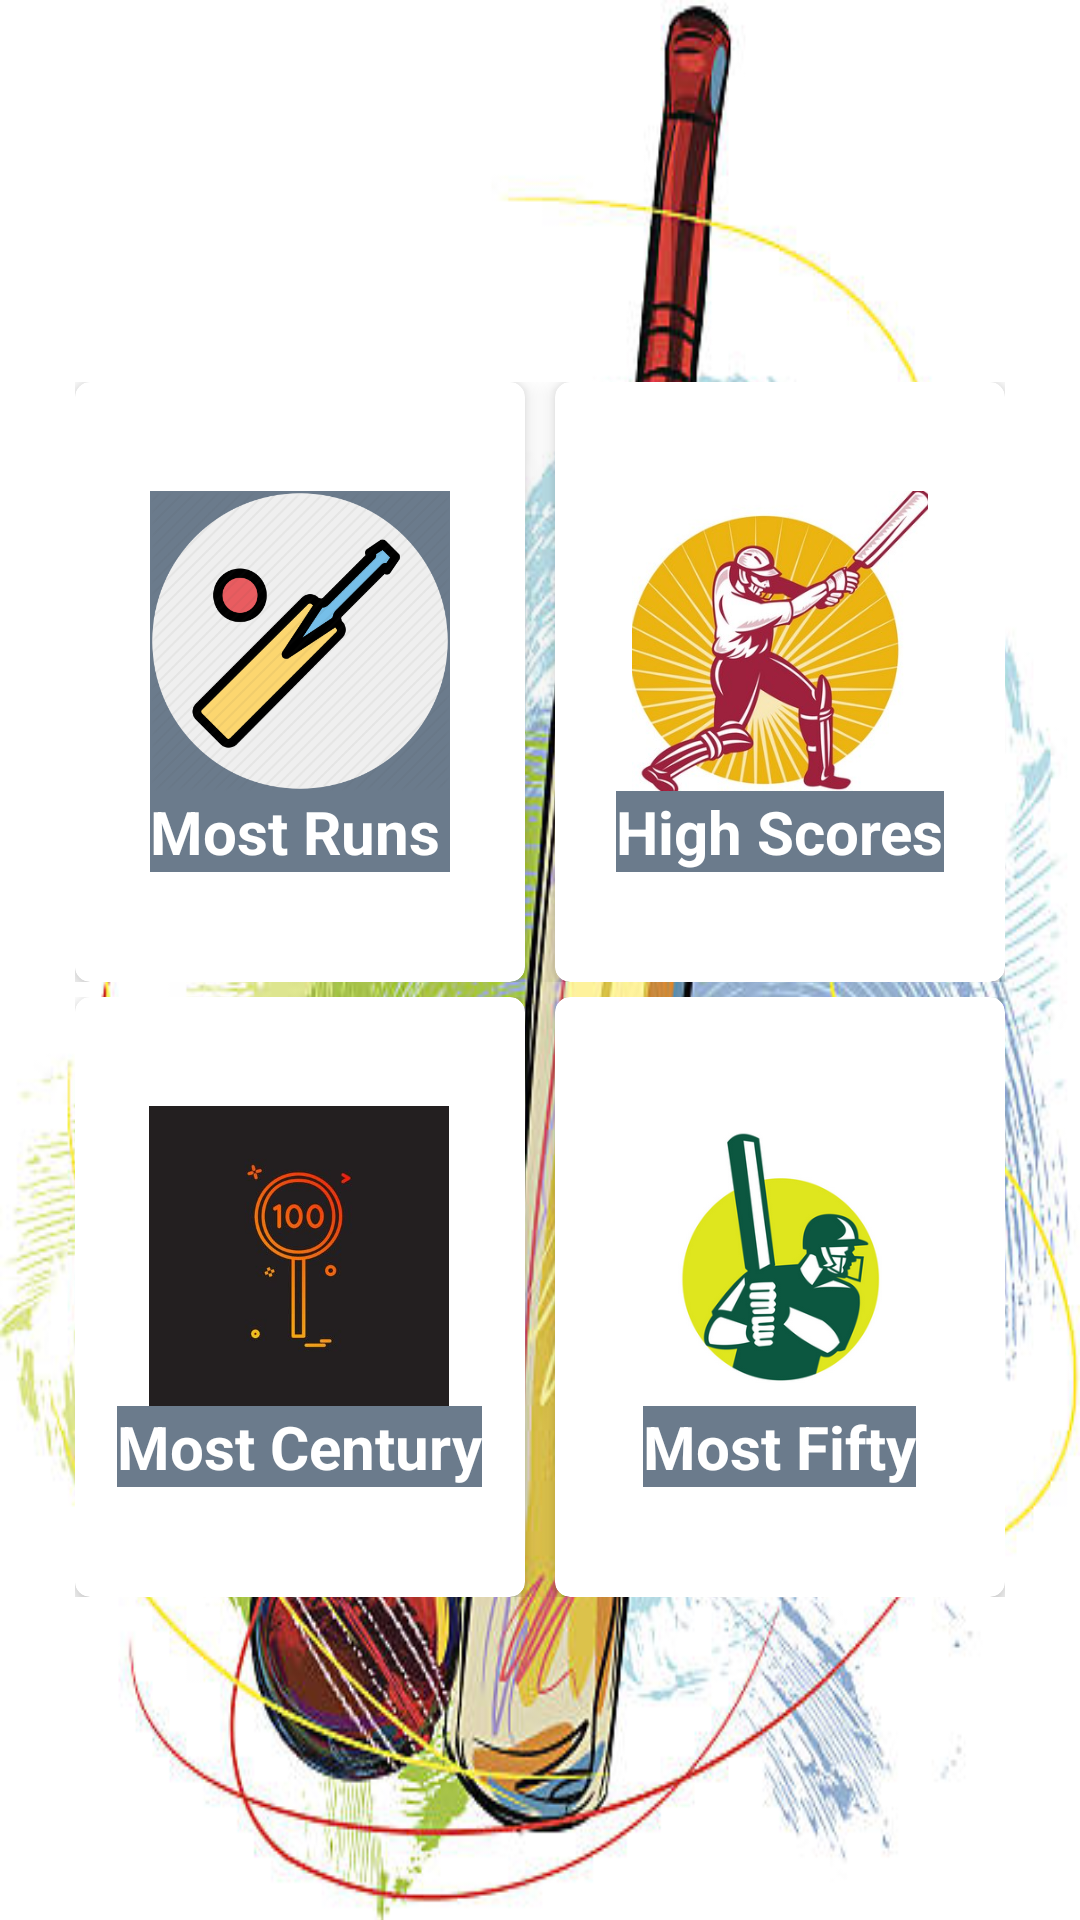

Where icons sit on this 1080 × 1920 app screen, as (x1, y1, x2, y2):
individualrunicon: (632, 491, 928, 791)
